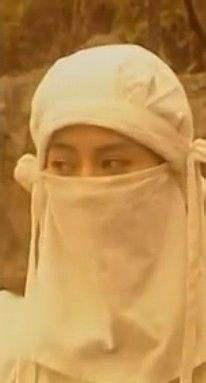OK: (48, 142, 140, 234)
